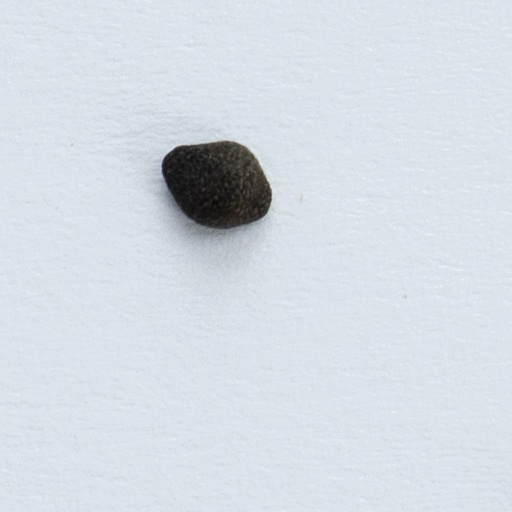Convolvulus-poly: (160, 138, 273, 231)
